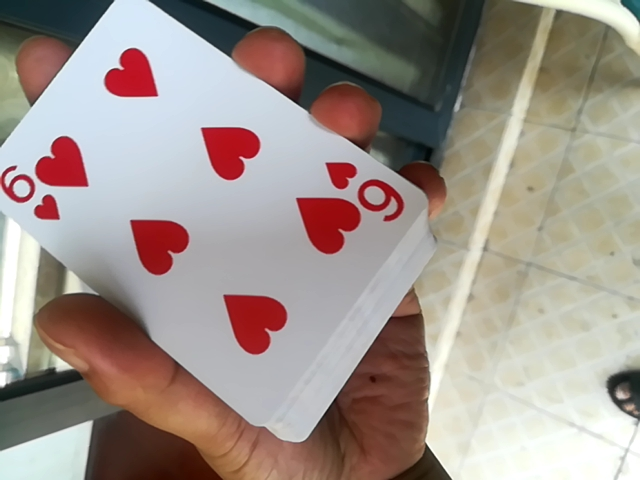hx 6: (13, 5, 439, 458)
